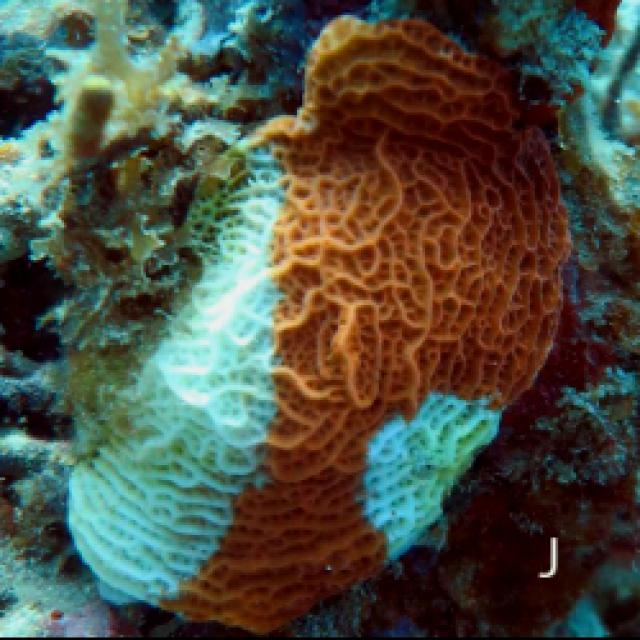Coral: (28, 12, 575, 636)
